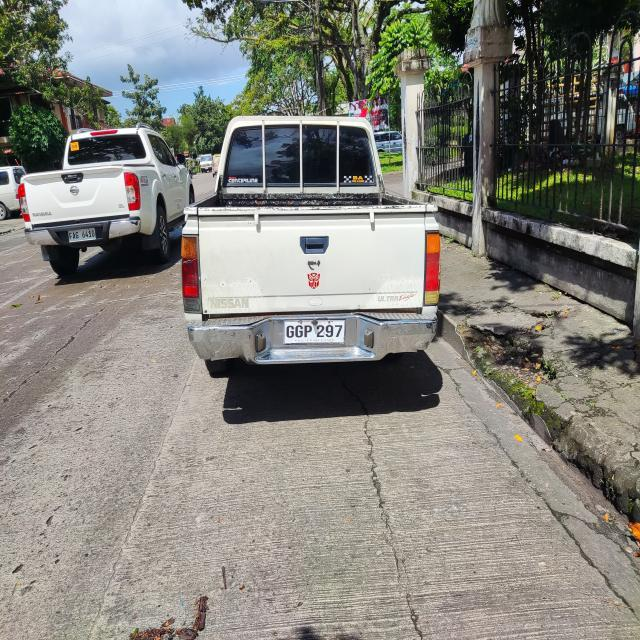LicensePlate: (279, 316, 353, 350)
